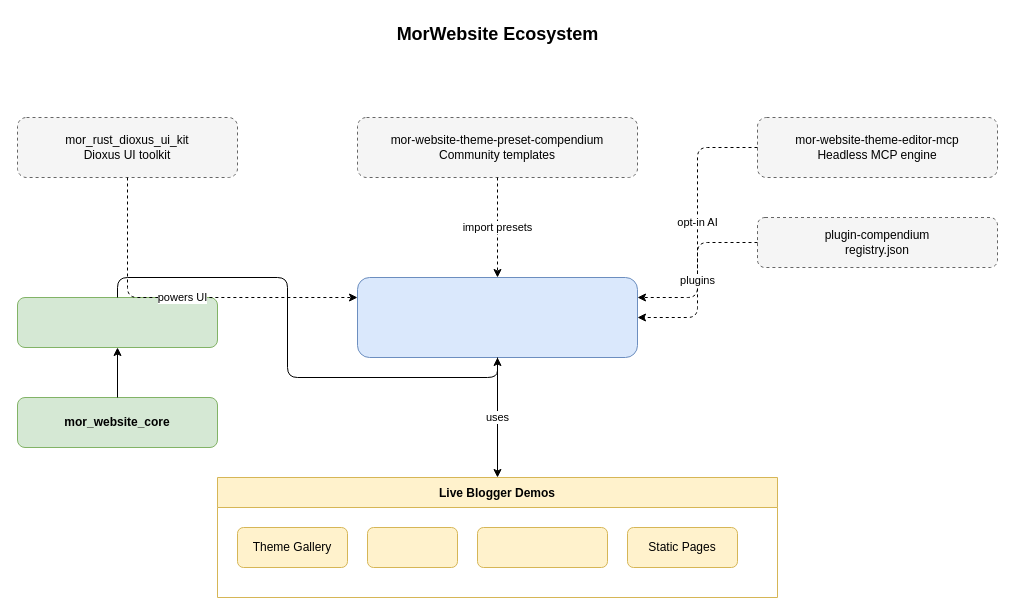
This 1015x615 diagram has some shape labels left out. Here are the shapes that lost their labels. From the top down, the centre of each, then its label:
At [117,322]: "mor_website_cli (mwt)".
At [497,317]: "MorWebsite Theme Editor (this repo)".
At [412,547]: "morxml".
At [542,547]: "Custom Post Types".
